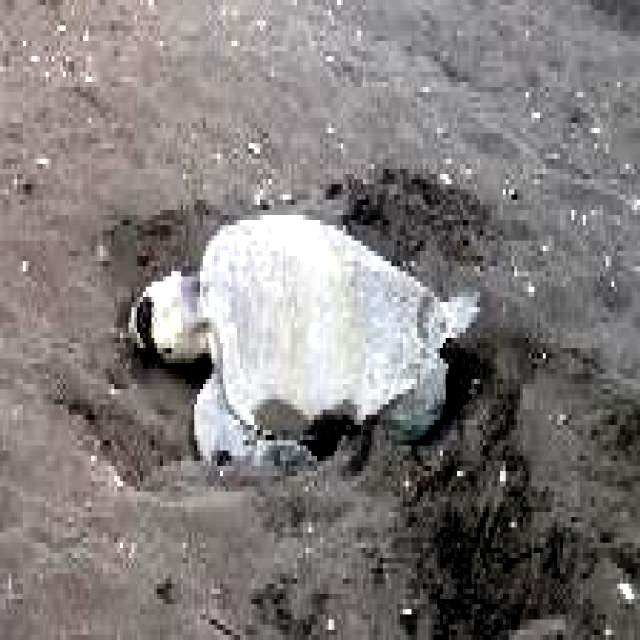Sea turtle: (136, 205, 480, 475)
